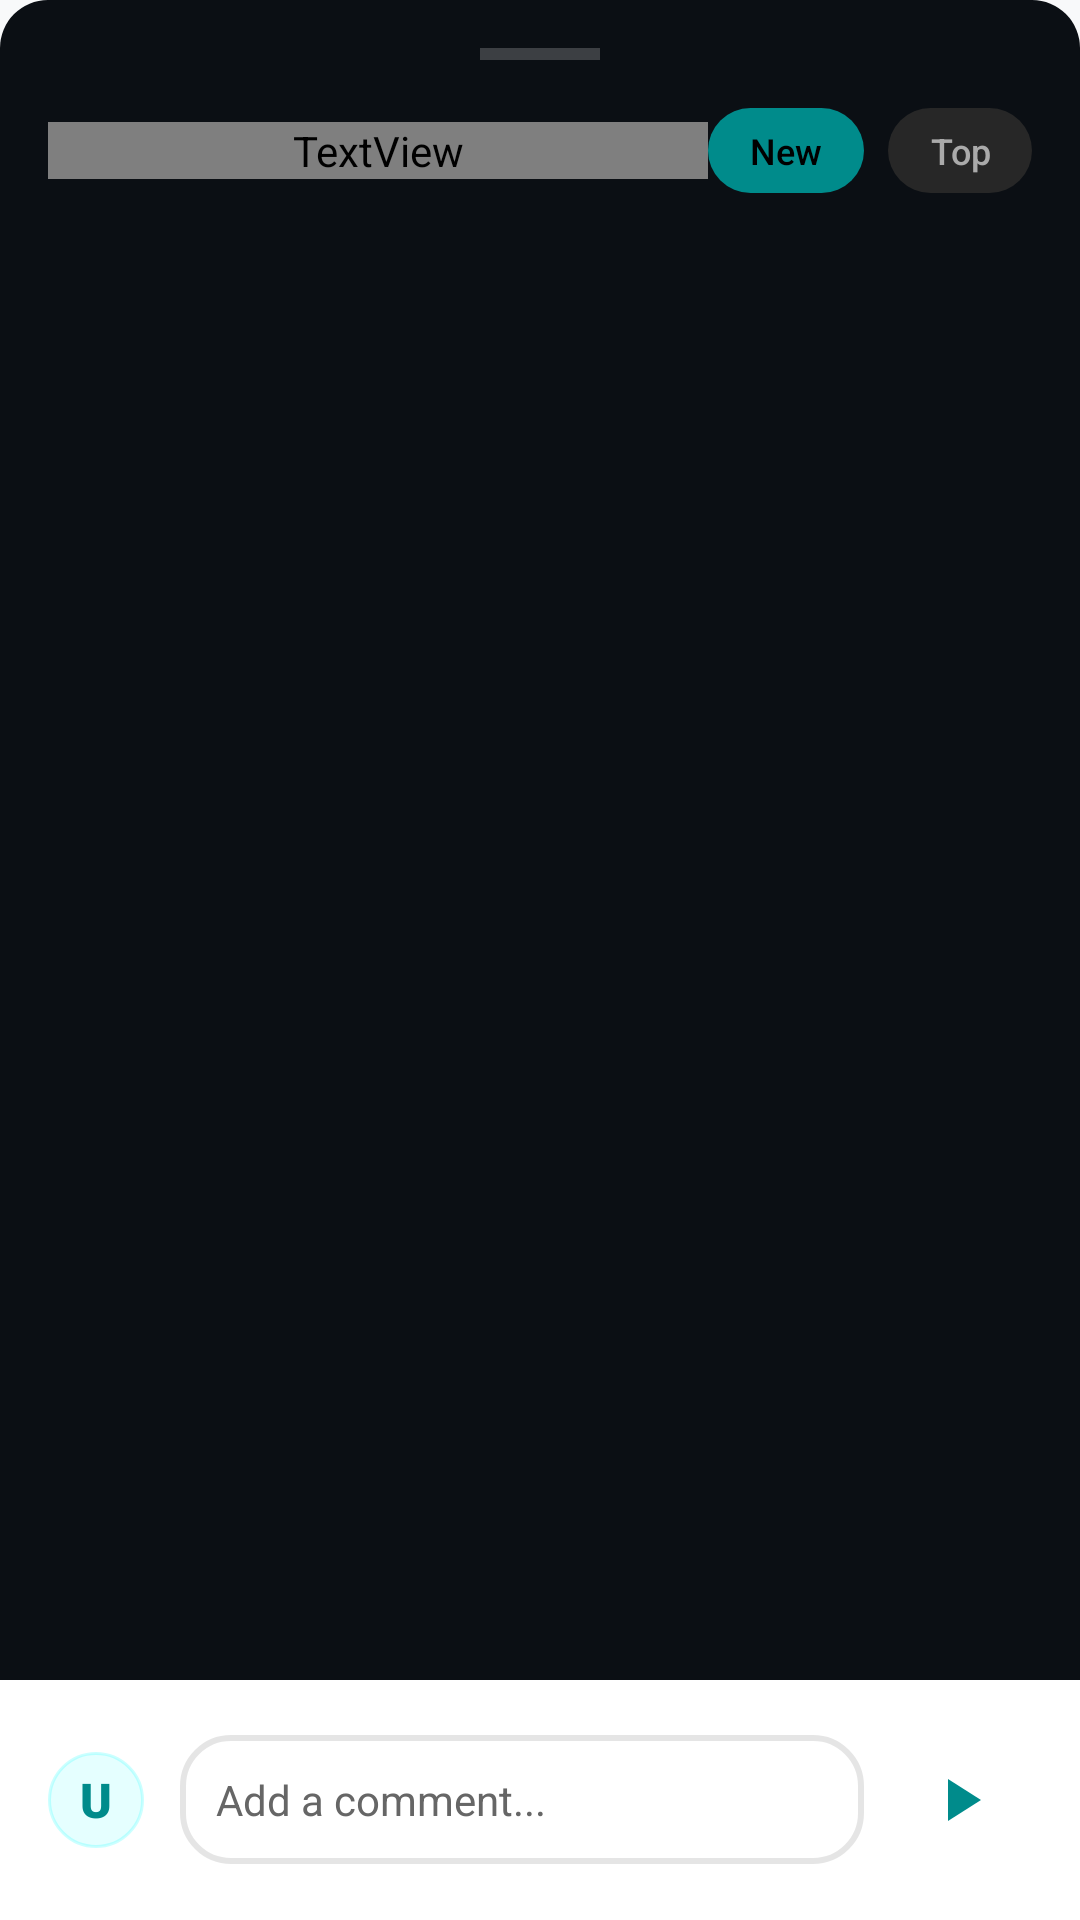

Icons on this 1080w x 1920h Android screen, each with the point to tap as (x,y):
play: (964,1800)
